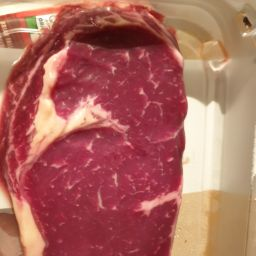Beef: (25, 2, 185, 218), (1, 113, 186, 256), (2, 73, 189, 204)
